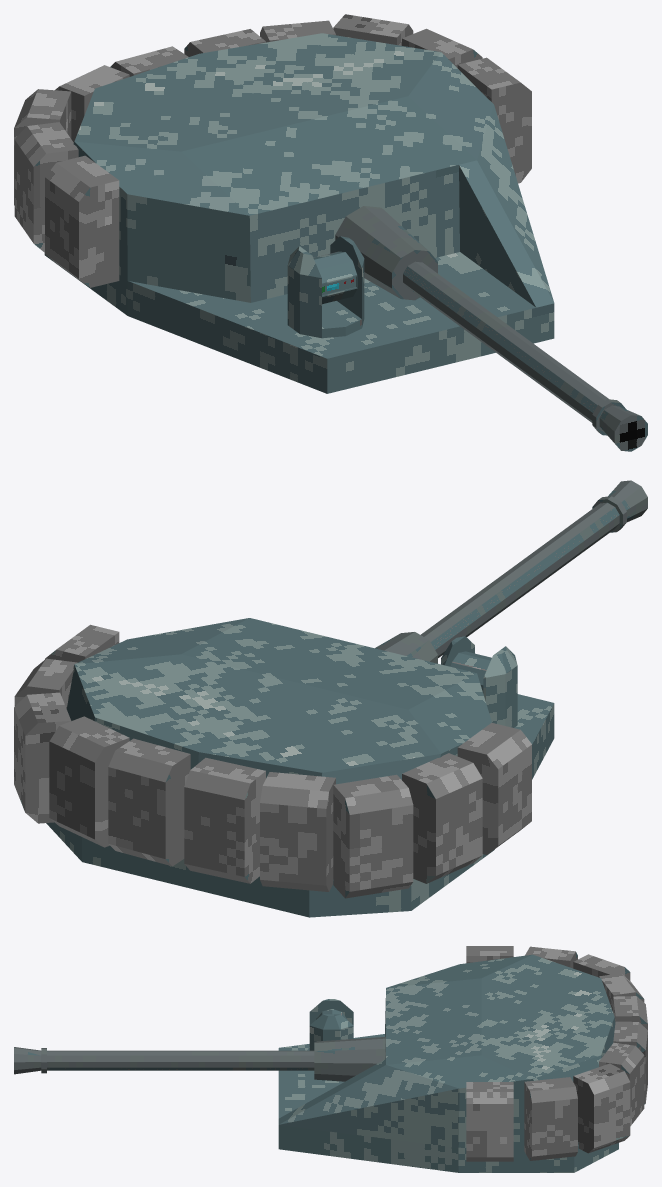
Rendered from Turret.glb.
3 renders of one model, top to bottom at view 1: azimuth 30°, elevation 25°; view 2: azimuth 150°, elevation 25°; view 3: azimuth 270°, elevation 25°, orthographic. The views are drawn at different scales.
Parts seen in each view (by area): view 1: Plane, Cylinder; view 2: Plane, Cylinder; view 3: Plane, Cylinder.
Boxes of the visible parts, x1,y1,x2,y2 form: Plane: (14, 14, 554, 393); Cylinder: (335, 206, 647, 451); Plane: (14, 618, 554, 917); Cylinder: (375, 480, 647, 663); Plane: (278, 946, 647, 1172); Cylinder: (14, 1037, 385, 1081).
Size of the model in its own units: 2.14 by 0.6094 by 3.73.
Materials: 1 (1 with a texture image).
